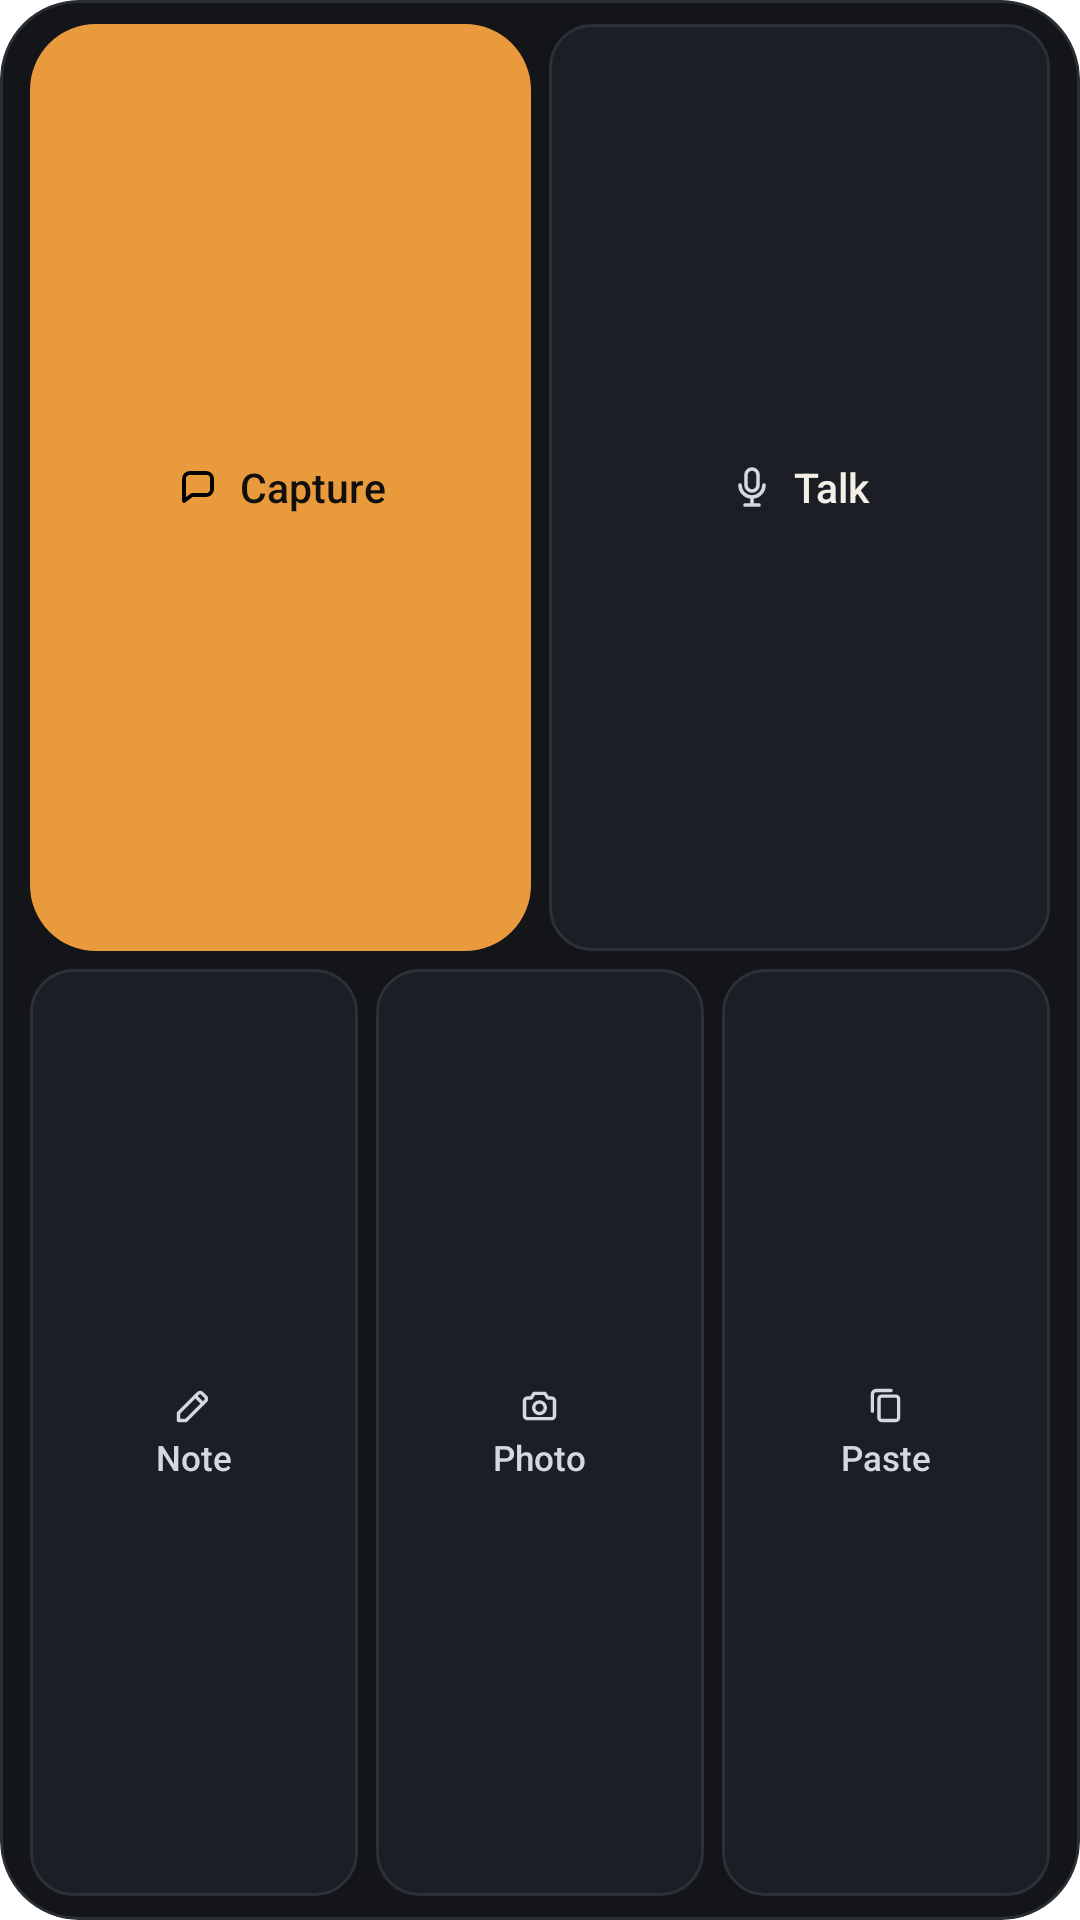

Locate icon controls on the screen. Image size 1080px×1920px, boxes as [x1=x1, y1=y1, x2=x2, y2=y2].
widget chat: [x1=182, y1=471, x2=214, y2=503]
widget mic: [x1=738, y1=467, x2=766, y2=507]
